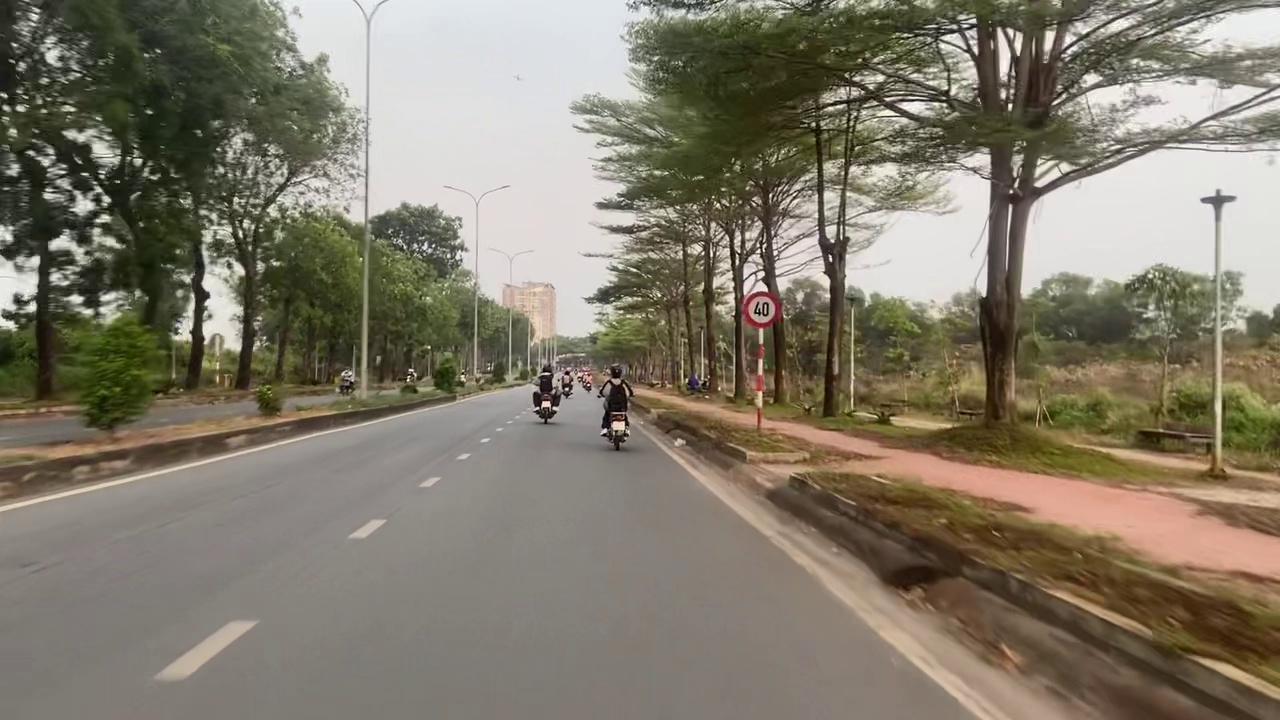gioi_han_40km: (742, 291, 781, 328)
